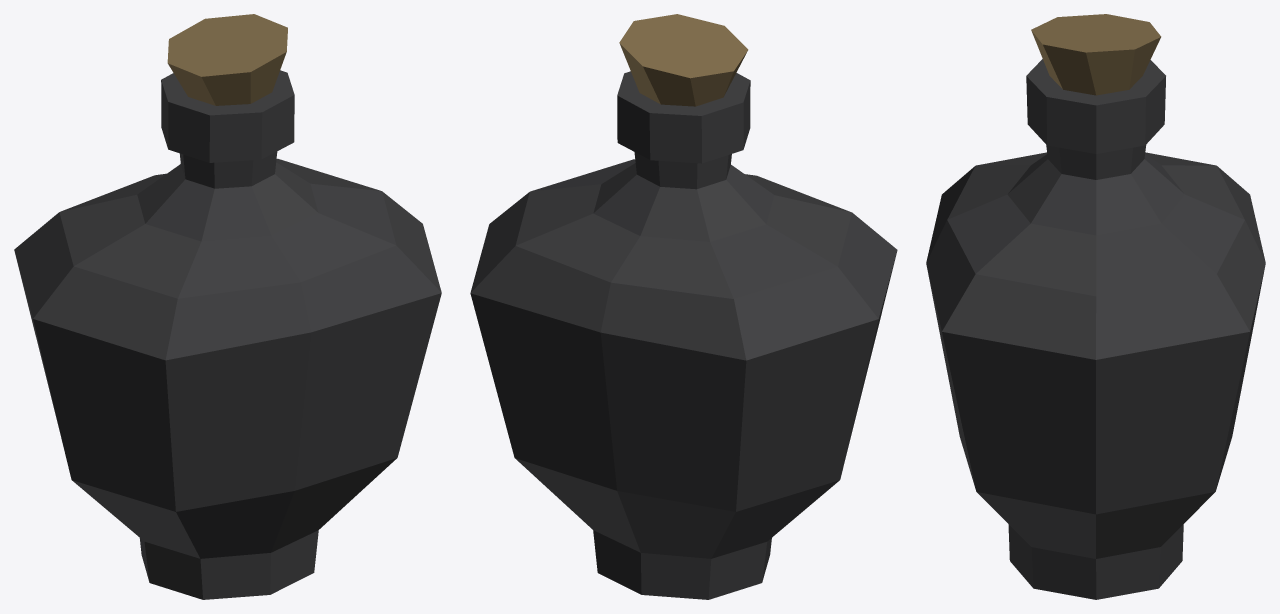
File: SM_Item_Bottle_03.glb
3 renders of one model, left to right at view 1: azimuth 30°, elevation 25°; view 2: azimuth 150°, elevation 25°; view 3: azimuth 270°, elevation 25°, orthographic.
Parts seen in each view (by area): view 1: SM_Item_Bottle_03; view 2: SM_Item_Bottle_03; view 3: SM_Item_Bottle_03.
Boxes of the visible parts, x1=… form: SM_Item_Bottle_03: x1=14, y1=14, x2=441, y2=599; SM_Item_Bottle_03: x1=470, y1=14, x2=897, y2=599; SM_Item_Bottle_03: x1=926, y1=14, x2=1265, y2=599.
Bounding box in the file's own units: 0.00162 × 0.00209 × 0.0012.
